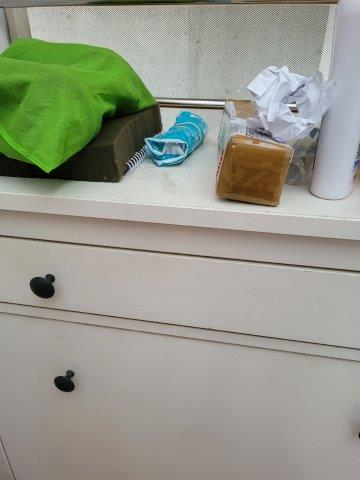kertas: (249, 65, 334, 142)
